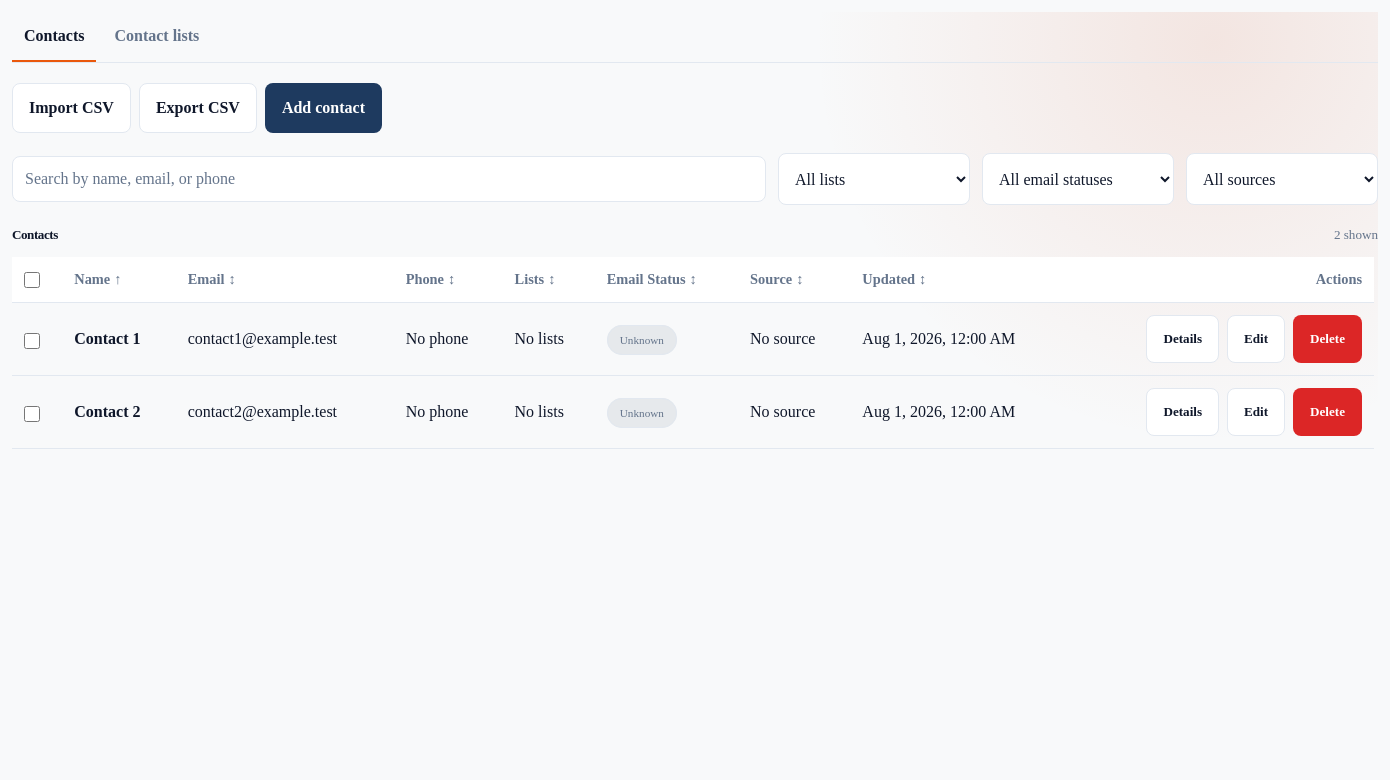
Test case: explains where to create a list when no contact lists exist
The width and height of the screenshot is (1390, 780).
What coordinates should you click on to do the following:
click the checkbox named "Select all matching contacts"
I would click on:
 (32, 280)
Its box is [24,272,40,288].
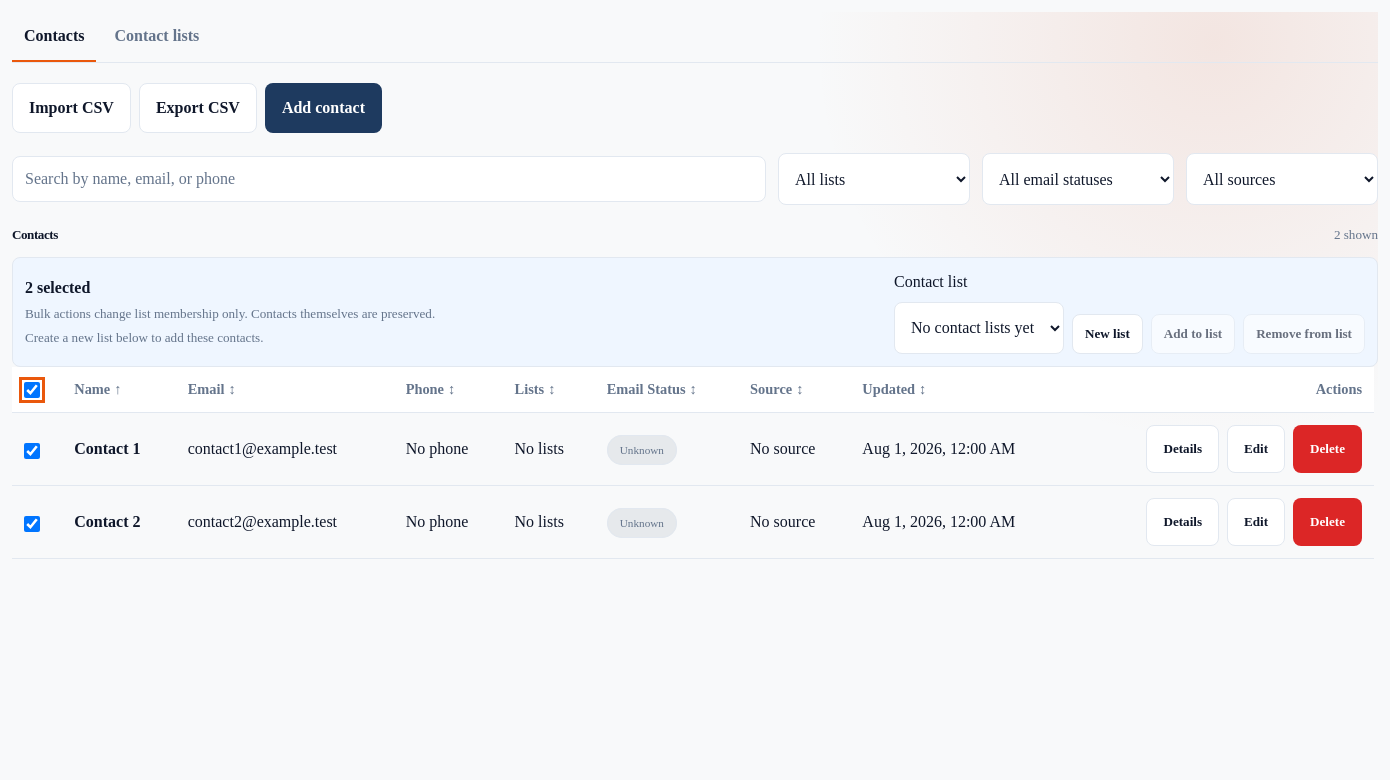
Expected: the text "Create a new list below to add these contacts." is shown, [25,330,264,345]
Expected: the dropdown labelled "Contact list" is disabled, [894,302,1064,354]
Expected: the button "Add to list" is disabled, [1151,314,1235,354]
